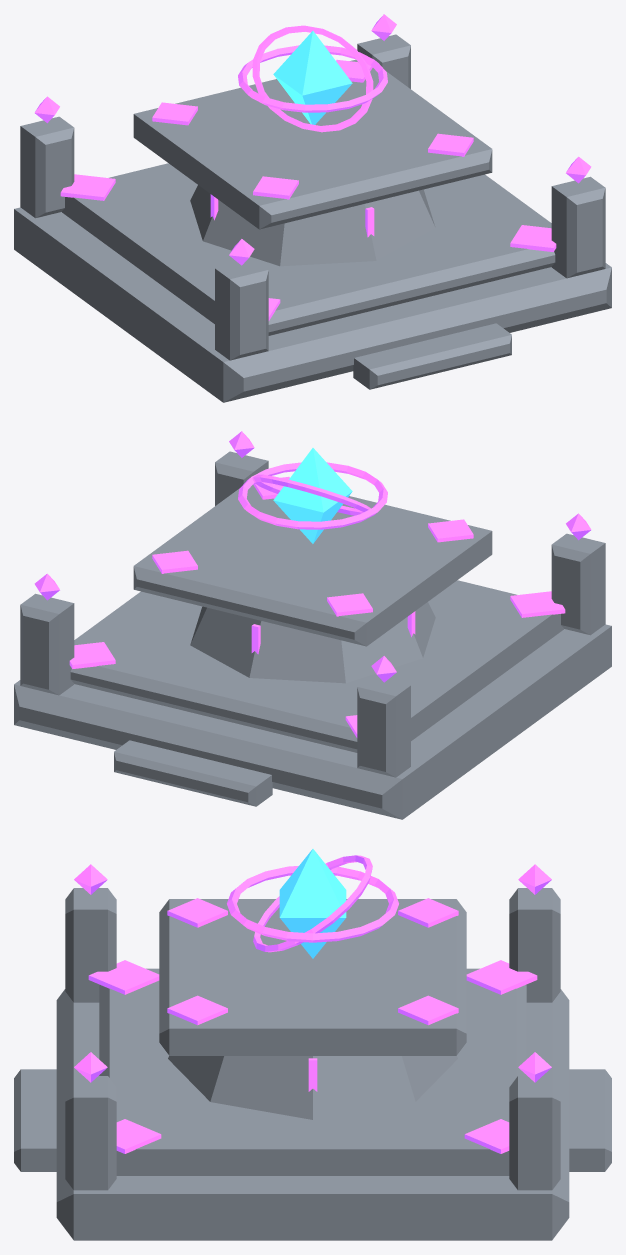
Rendered from PROP_ENCHANT_ALTAR.glb.
3 views of the same model, one above another, from view 1: azimuth 30°, elevation 25°; view 2: azimuth 150°, elevation 25°; view 3: azimuth 270°, elevation 25° (orthographic). The views are drawn at different scales.
Parts seen in each view (by area): view 1: Stone, Glow; view 2: Stone, Glow; view 3: Stone, Glow.
Part boxes in pixels (x1,y1,x2,y2): Stone: (14,34,611,402); Glow: (34,14,591,320); Stone: (14,451,611,819); Glow: (34,431,591,737); Stone: (14,888,611,1240); Glow: (74,849,551,1153).
Size of the model in its own units: 4.91 by 3 by 5.73.
